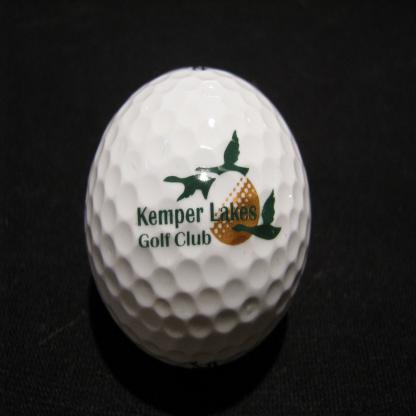Ball: (84, 66, 312, 371)
